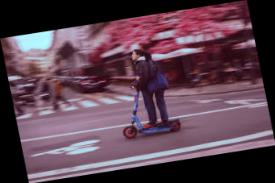multiple: (106, 40, 186, 143)
